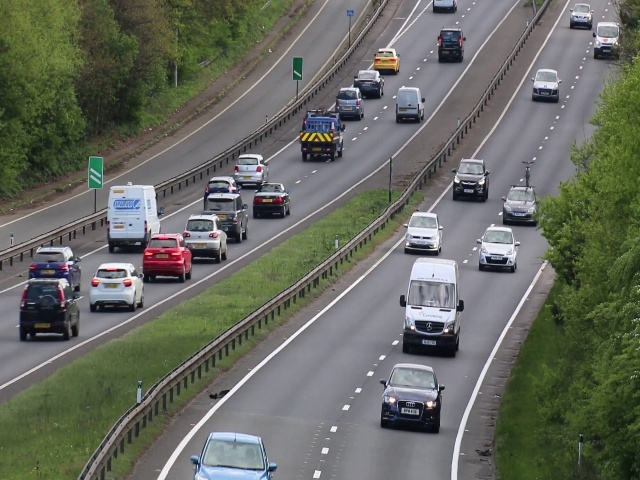car: (402, 260, 466, 354), (379, 363, 442, 435), (187, 429, 270, 480), (16, 278, 80, 342), (298, 107, 345, 162), (107, 185, 144, 252), (92, 264, 143, 312), (143, 238, 193, 283), (478, 226, 519, 270), (402, 212, 441, 253), (254, 179, 292, 218), (452, 158, 486, 201), (194, 213, 222, 260), (34, 247, 75, 278), (504, 187, 537, 224), (231, 153, 268, 186), (436, 26, 466, 64), (595, 21, 622, 59), (531, 66, 559, 102), (397, 86, 425, 122), (229, 196, 248, 243), (338, 88, 364, 118), (357, 68, 381, 98), (571, 2, 593, 32), (374, 47, 399, 73), (206, 179, 231, 192)
